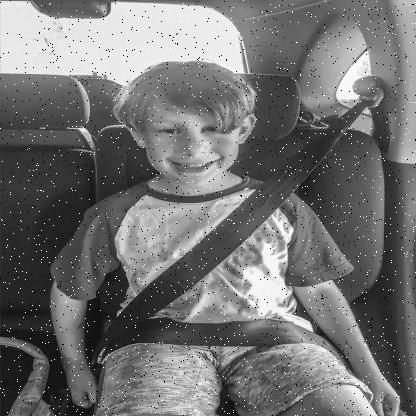seatbelt: (94, 50, 304, 305)
